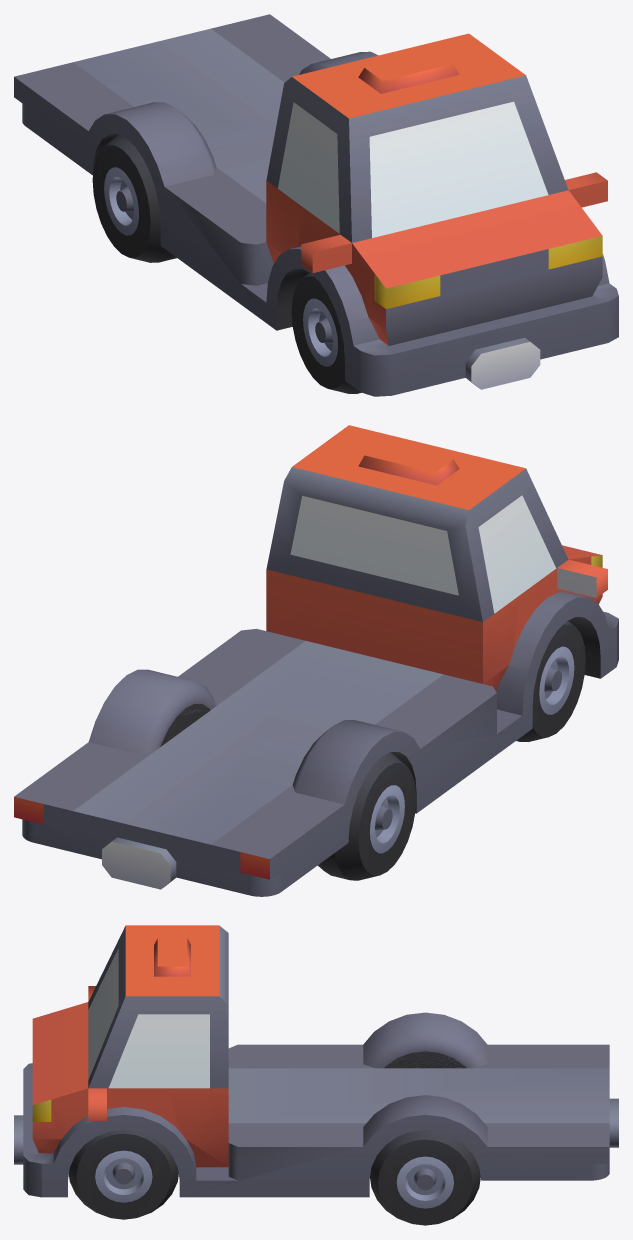
Rendered from mod-caminhao-carroceria.gltf.
3 views of the same model, one above another, from view 1: azimuth 30°, elevation 25°; view 2: azimuth 150°, elevation 25°; view 3: azimuth 270°, elevation 25° (orthographic). The views are drawn at different scales.
Visible parts, largest first — view 1: wheel-back-left; view 2: wheel-back-left; view 3: wheel-back-left.
Part boxes in pixels (box(x1,y1,x2,y2)): wheel-back-left: box(14, 14, 618, 396); wheel-back-left: box(14, 425, 618, 896); wheel-back-left: box(14, 925, 618, 1225).
Size of the model in its own units: 1.68 by 1.51 by 3.64.
Materials: 1 (1 with a texture image).
